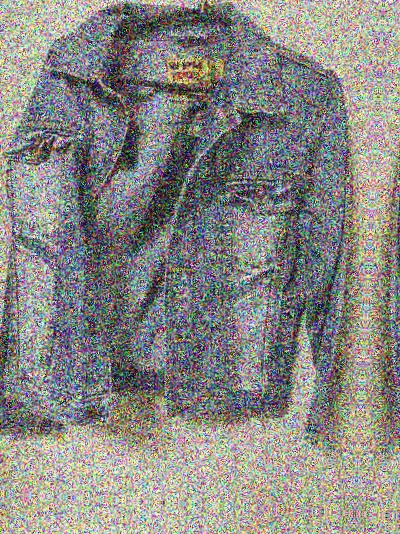Blazer: (0, 0, 378, 465), (364, 8, 400, 486)
